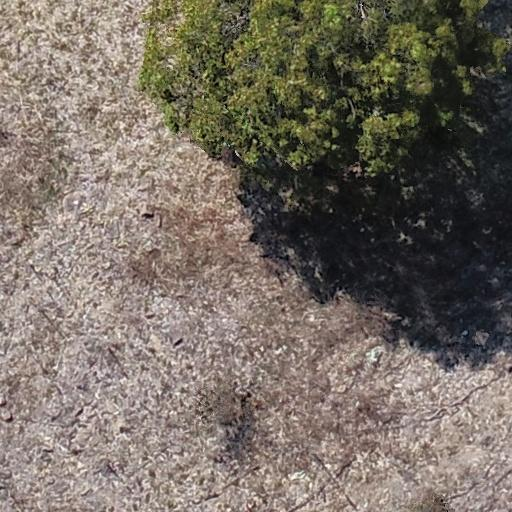stone: (135, 201, 155, 217), (0, 408, 16, 422), (74, 407, 84, 417), (40, 447, 56, 453), (1, 470, 12, 478), (174, 338, 182, 348), (338, 385, 347, 393), (0, 397, 6, 405)
